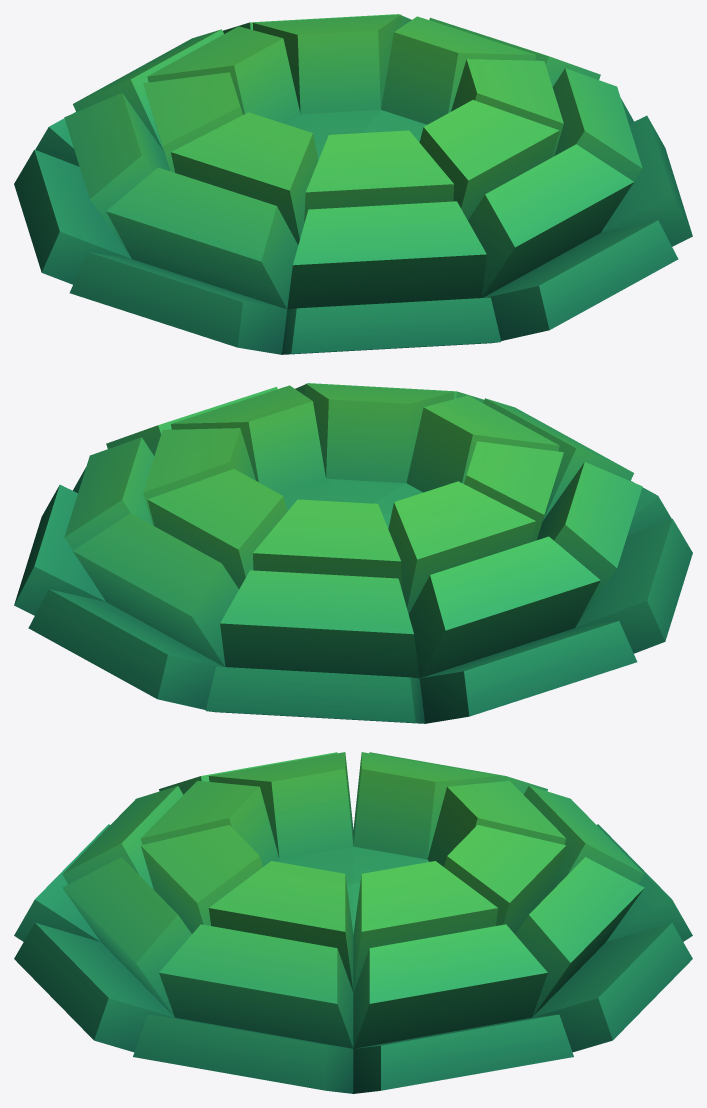
The model's file is anemone_far3.fbx.
The picture shows the model from 3 angles, top to bottom: view 1: azimuth 30°, elevation 25°; view 2: azimuth 150°, elevation 25°; view 3: azimuth 270°, elevation 25°; orthographic projection.
Visible parts, largest first — view 1: anemone_far3; view 2: anemone_far3; view 3: anemone_far3.
Boxes of the visible parts, left/top/right/bottom form: anemone_far3: left=14, top=14, right=692, bottom=354; anemone_far3: left=14, top=383, right=692, bottom=723; anemone_far3: left=14, top=752, right=692, bottom=1093.
Size of the model in its own units: 0.0421 by 0.0107 by 0.0421.
1 material, 1 textured.
